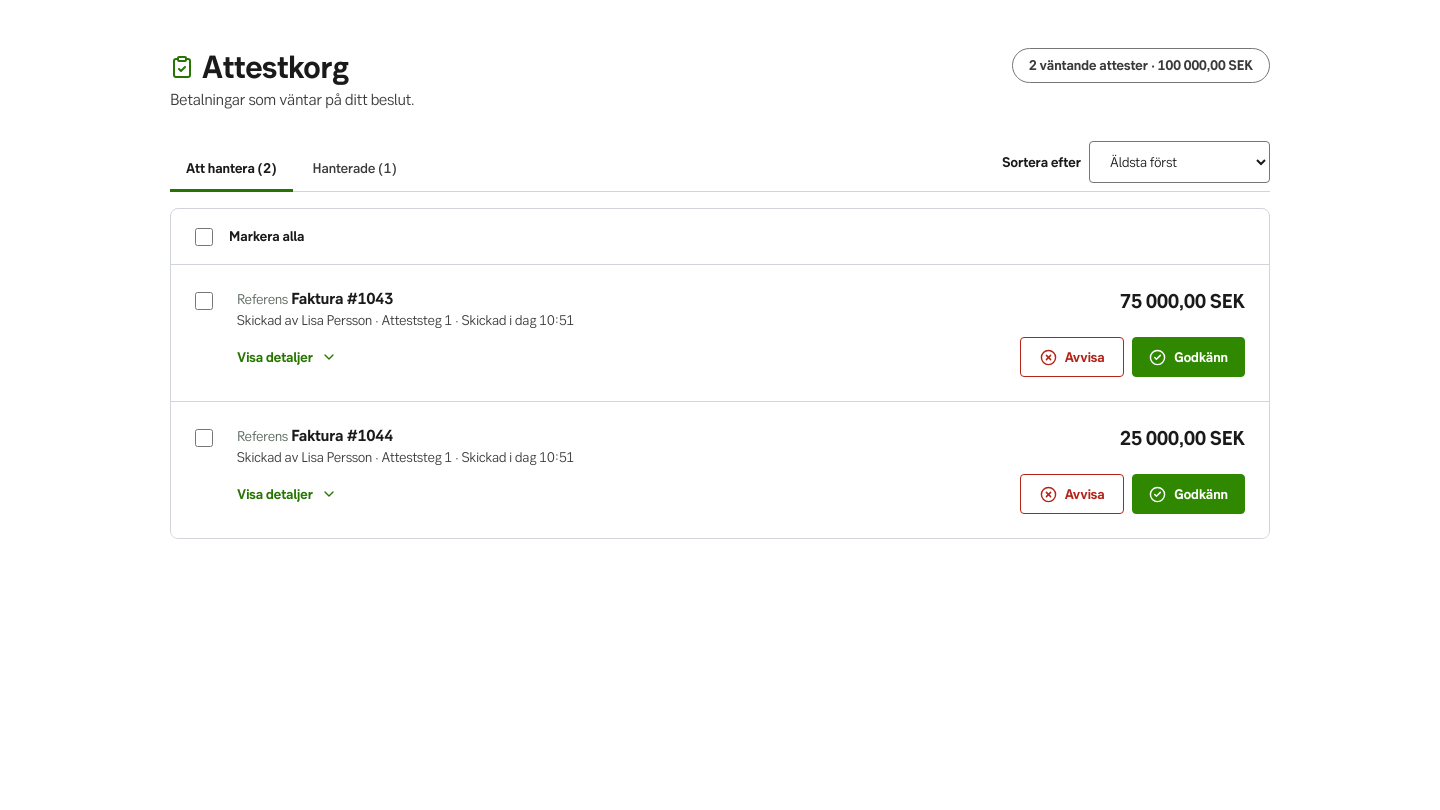
Scenario: Approving several payments at once › approves the selected payments one after another with the same comment
Click the checkbox named "Markera Faktura #1043". click: (204, 301)
box: [195,292,213,310]
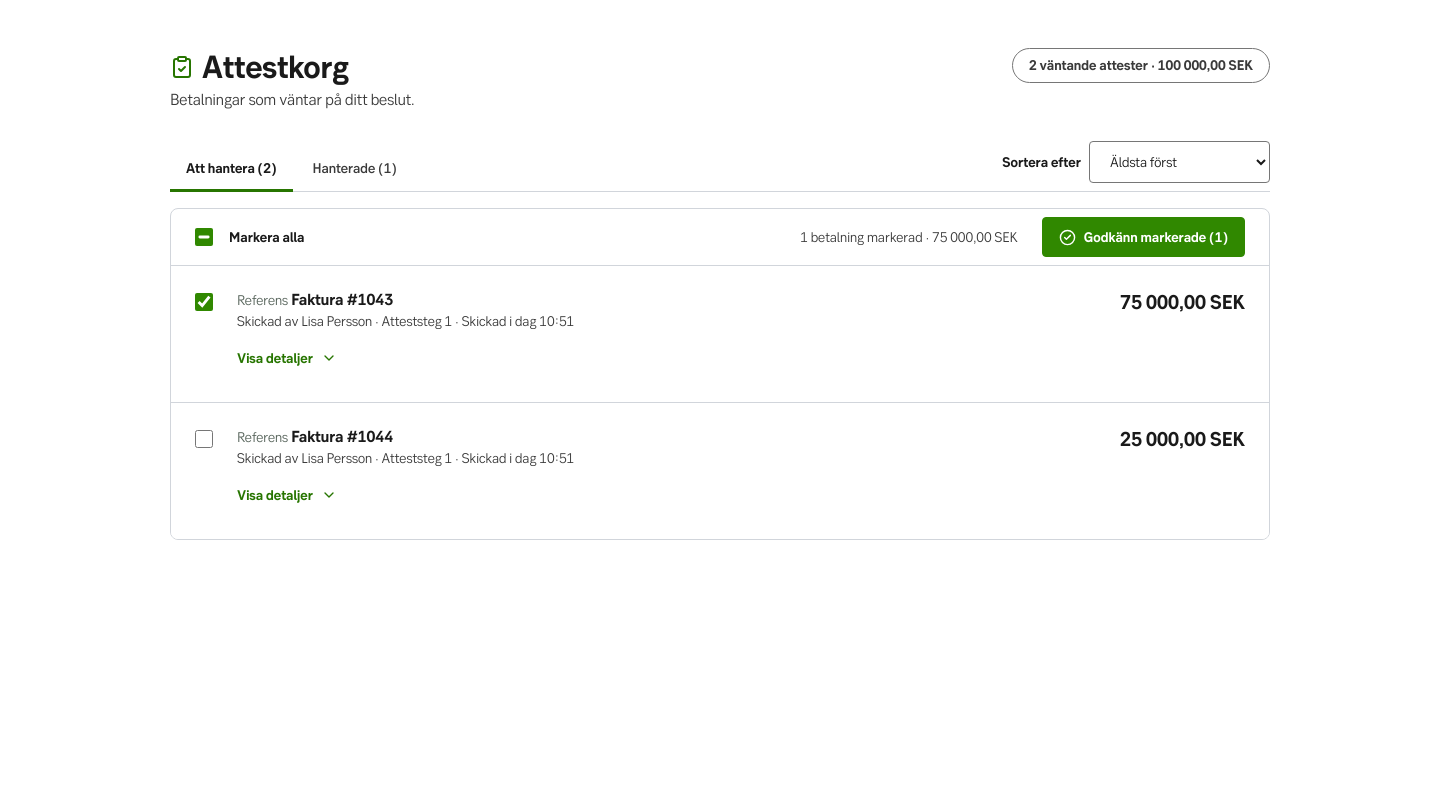
Click the checkbox named "Markera Faktura #1044". click: (204, 439)
box: [195,430,213,448]
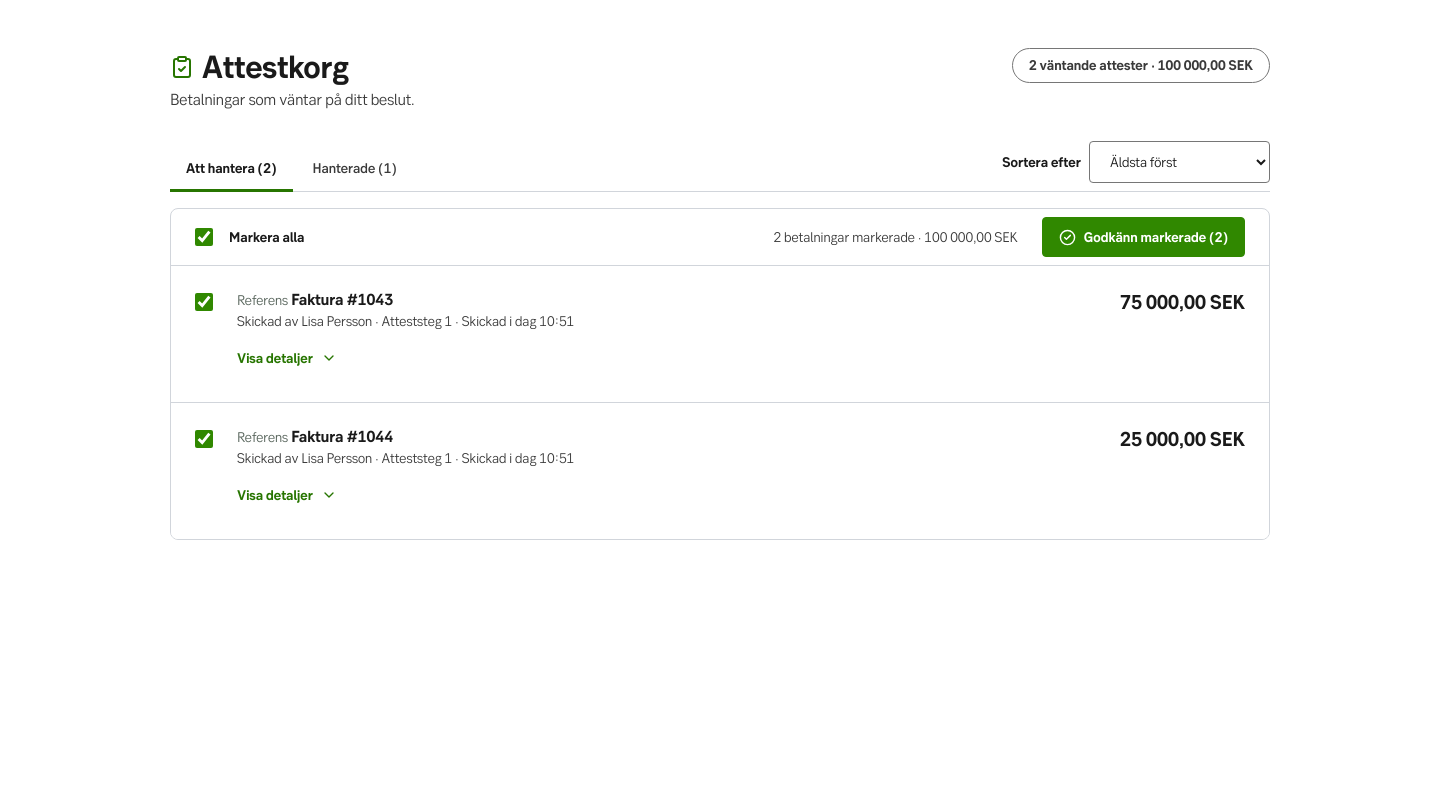
Click the button "Godkänn markerade (2)". click: (1143, 237)
box: [1042,217,1245,257]
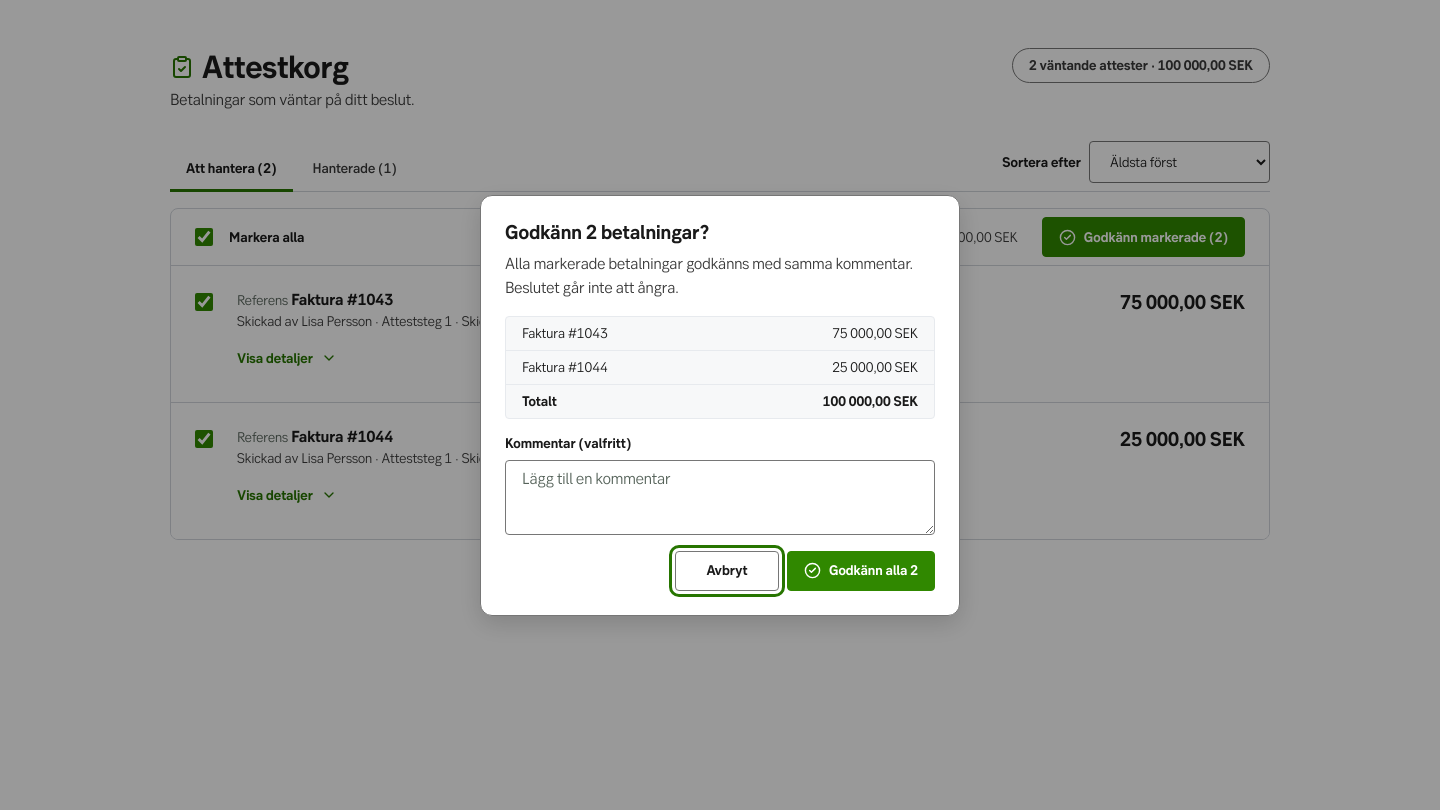
Type " Kontrollerad " into the text box labelled "Kommentar (valfritt)". click: (720, 497)
box: [505,460,935,534]
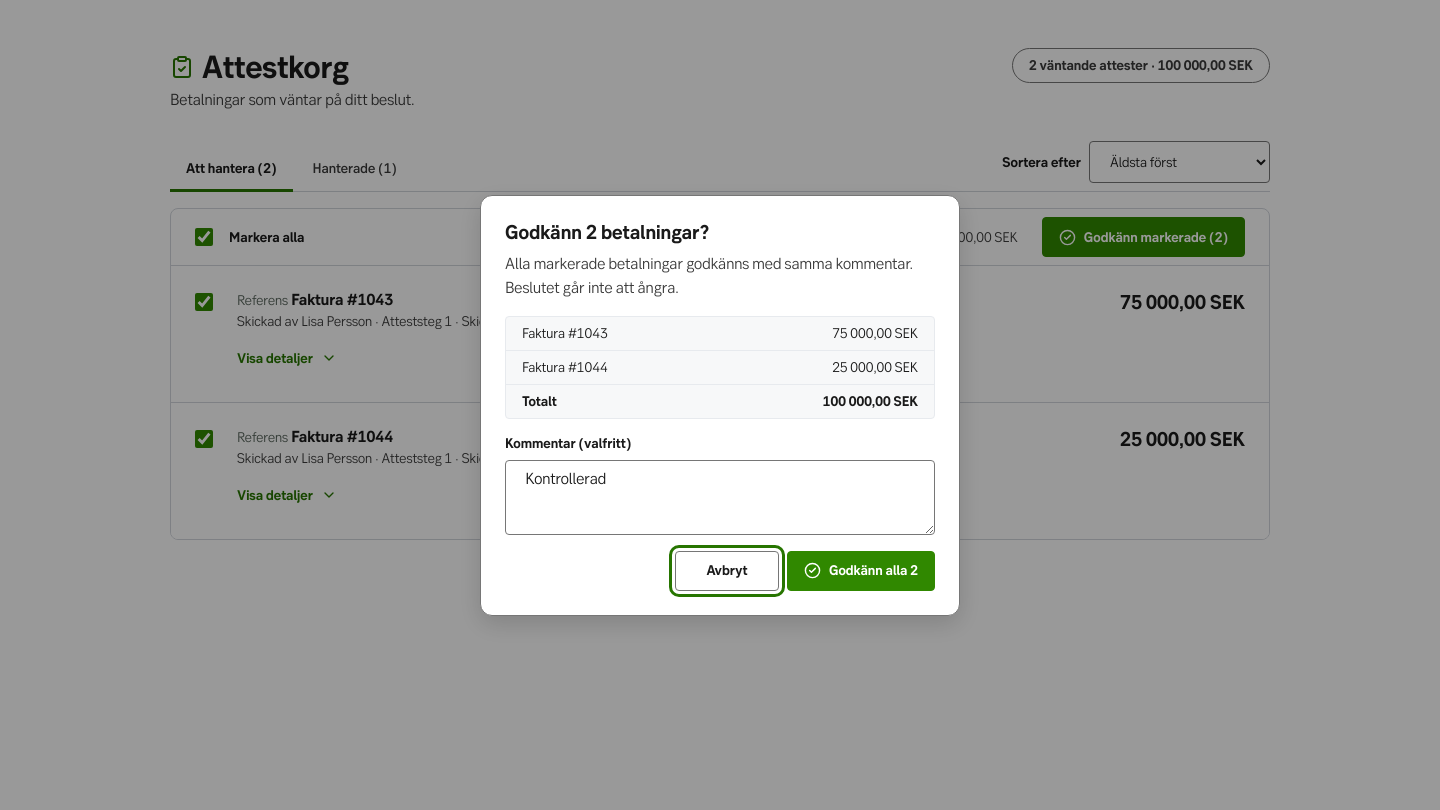
Click the button "Godkänn alla 2". click: (861, 570)
box: [787,550,935,590]
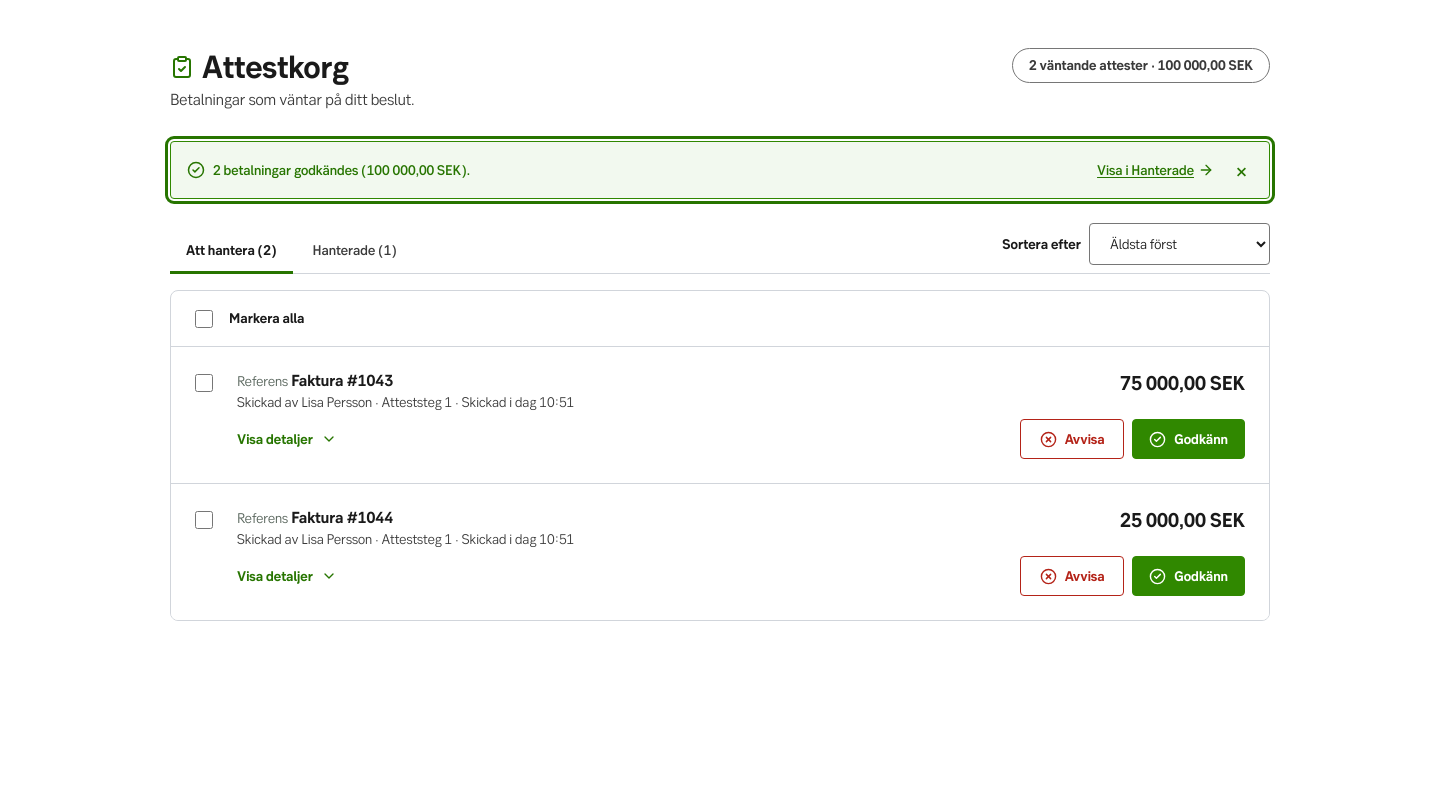
expect the text "2 betalningar godkändes (100 000,00 SEK)." is shown: met, box [187,161,470,179]
expect the dialog is gone: met
